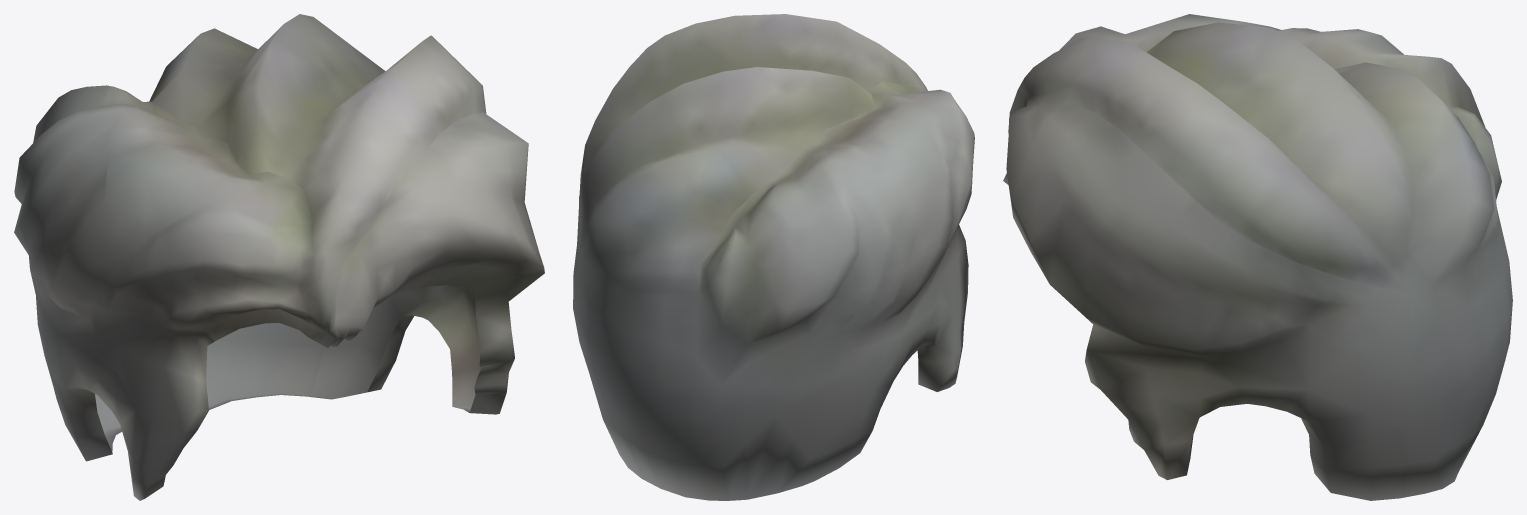
File: Hair_SimpleParted.glb
The picture shows the model from 3 angles, left to right: view 1: azimuth 30°, elevation 25°; view 2: azimuth 150°, elevation 25°; view 3: azimuth 270°, elevation 25°; orthographic projection. The views are drawn at different scales.
Parts seen in each view (by area): view 1: Hair_SimpleParted; view 2: Hair_SimpleParted; view 3: Hair_SimpleParted.
Boxes of the visible parts, x1,y1,x2,y2 form: Hair_SimpleParted: (14,14,544,500); Hair_SimpleParted: (573,14,974,500); Hair_SimpleParted: (1003,14,1512,500).
Size of the model in its own units: 0.1754 by 0.1792 by 0.1869.
Materials: 1 (1 with a texture image).
